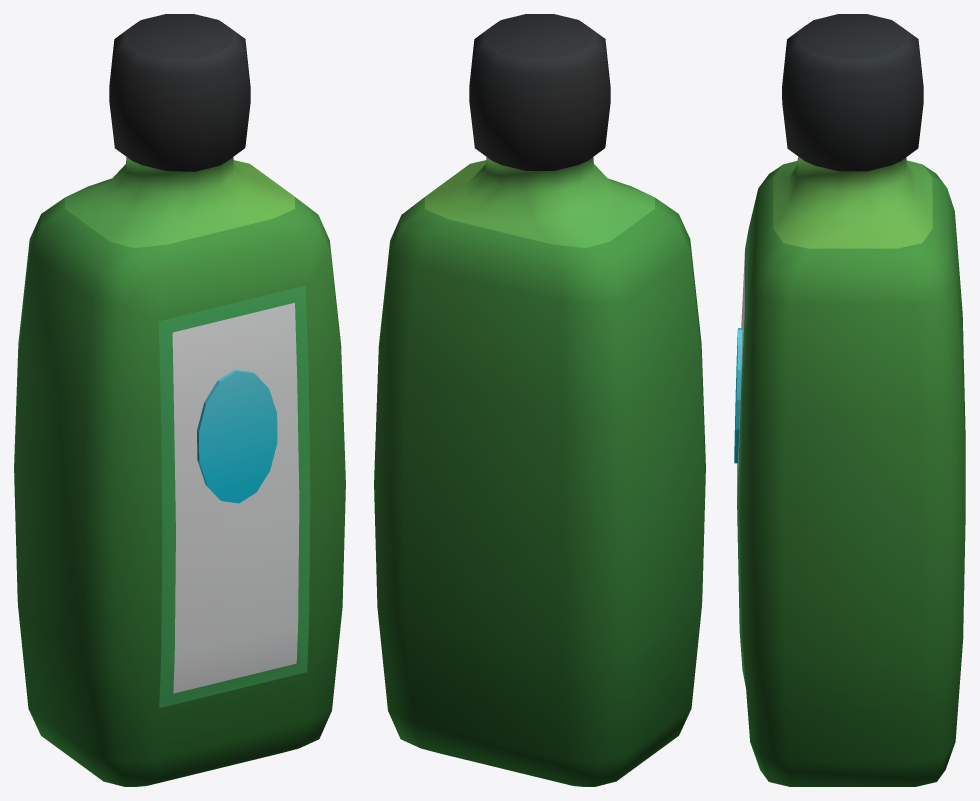
Rendered from bottle_013.fbx.
The picture shows the model from 3 angles, left to right: view 1: azimuth 30°, elevation 25°; view 2: azimuth 150°, elevation 25°; view 3: azimuth 270°, elevation 25°; orthographic projection.
Parts seen in each view (by area): view 1: bottle_013; view 2: bottle_013; view 3: bottle_013.
Boxes of the visible parts, bbox=[...] form: bottle_013: bbox=[14, 14, 345, 786]; bottle_013: bbox=[374, 14, 705, 786]; bottle_013: bbox=[734, 14, 965, 786].
Bounding box in the file's own units: 10.94 × 8.35 × 28.25.
